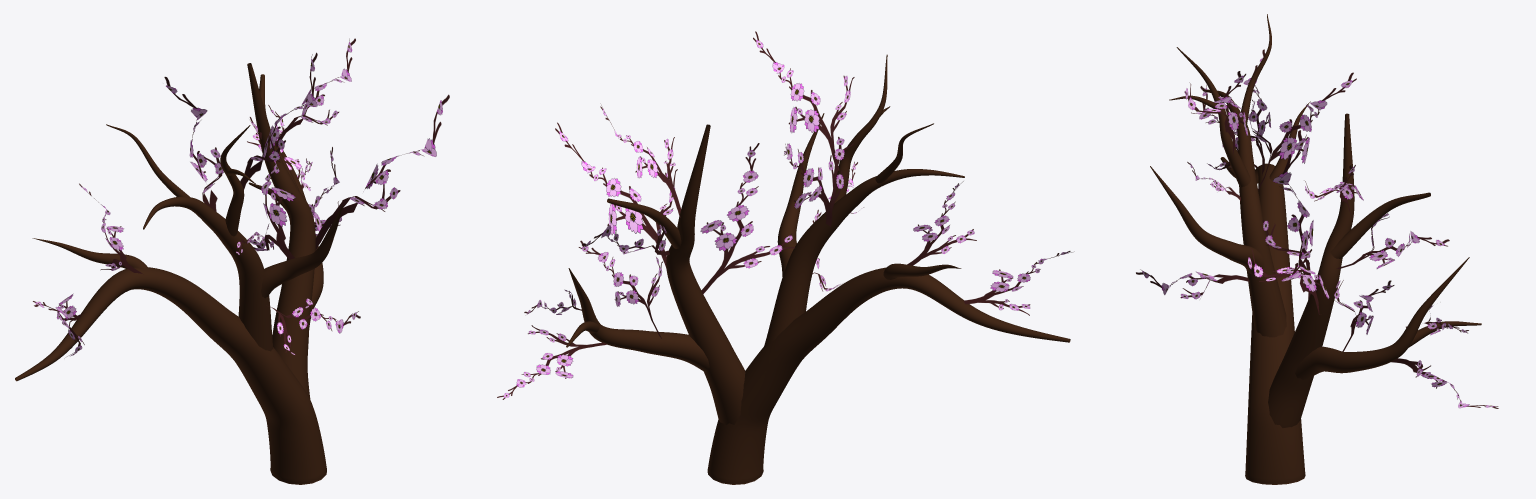
Rendered from cherry_blossom_v1.glb.
The picture shows the model from 3 angles, left to right: view 1: azimuth 30°, elevation 25°; view 2: azimuth 150°, elevation 25°; view 3: azimuth 270°, elevation 25°; orthographic projection. The views are drawn at different scales.
Parts seen in each view (by area): view 1: tree.001, Branch.009, Branch.005, Branch.010, Branch.011, Branch.012, Branch.006, Branch.007, Branch.008; view 2: tree.001, Branch.005, Branch.009, Branch.010, Branch.011, Branch.002, Branch.001, Branch.008, Branch.006, Branch.007, Branch.004; view 3: tree.001, Branch.011, Branch.005, Branch.009, Branch.010, Branch.004, Branch.001, Branch.012, Branch.007, Branch.002, Branch.006.
Boxes of the visible parts, bbox=[...] form: tree.001: bbox=[15, 63, 342, 484]; Branch.009: bbox=[315, 94, 449, 250]; Branch.005: bbox=[249, 117, 295, 259]; Branch.010: bbox=[240, 52, 317, 190]; Branch.011: bbox=[164, 76, 223, 211]; Branch.012: bbox=[266, 298, 360, 355]; Branch.006: bbox=[275, 38, 355, 147]; Branch.007: bbox=[79, 183, 143, 274]; Branch.008: bbox=[33, 293, 84, 356]; tree.001: bbox=[566, 54, 1070, 484]; Branch.005: bbox=[700, 143, 794, 294]; Branch.009: bbox=[555, 122, 677, 267]; Branch.010: bbox=[753, 31, 854, 172]; Branch.011: bbox=[784, 136, 853, 226]; Branch.002: bbox=[497, 325, 615, 399]; Branch.001: bbox=[578, 240, 662, 338]; Branch.008: bbox=[963, 251, 1074, 315]; Branch.006: bbox=[600, 103, 681, 217]; Branch.007: bbox=[907, 181, 976, 265]; Branch.004: bbox=[581, 224, 669, 255]; tree.001: bbox=[1150, 14, 1481, 484]; Branch.011: bbox=[1249, 72, 1356, 190]; Branch.005: bbox=[1262, 130, 1313, 299]; Branch.009: bbox=[1247, 248, 1329, 314]; Branch.010: bbox=[1184, 71, 1248, 154]; Branch.004: bbox=[1336, 213, 1449, 268]; Branch.001: bbox=[1334, 280, 1394, 351]; Branch.012: bbox=[1136, 269, 1249, 299]; Branch.007: bbox=[1228, 49, 1270, 175]; Branch.002: bbox=[1391, 358, 1498, 408]; Branch.006: bbox=[1304, 165, 1363, 216].
Size of the model in its own units: 1.03 by 0.8975 by 0.7637.
14 materials, 13 textured.
